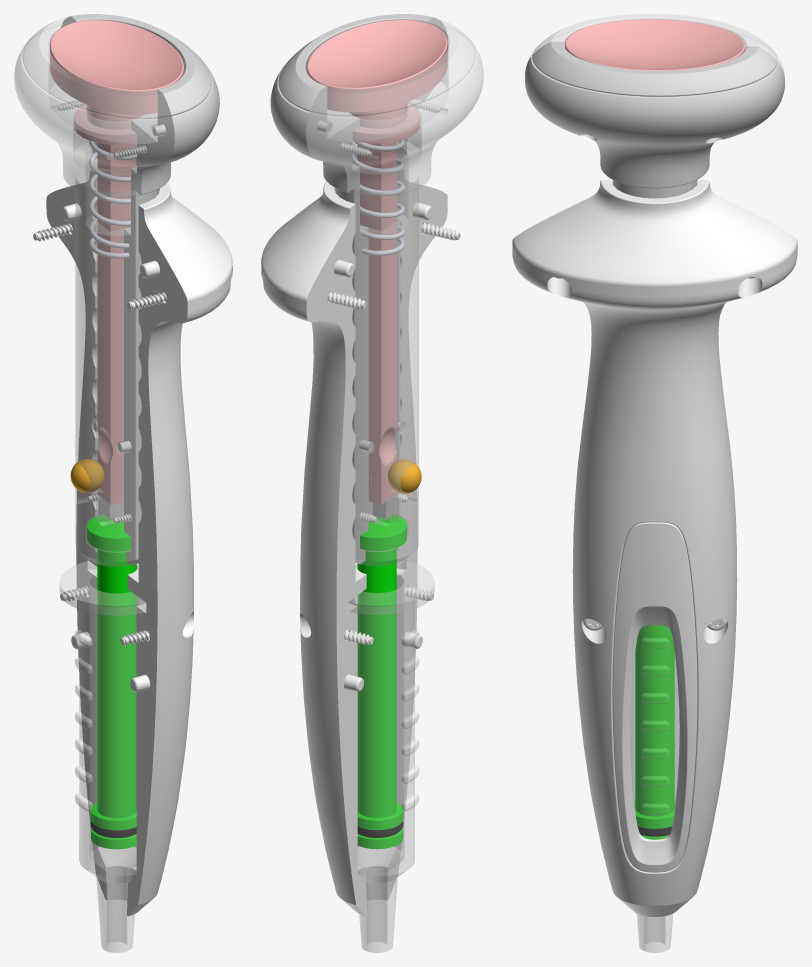
The model's file is sinoplasty.glb.
3 views of the same model, side by side, from view 1: azimuth 30°, elevation 25°; view 2: azimuth 150°, elevation 25°; view 3: azimuth 270°, elevation 25° (orthographic).
Visible parts, largest first — view 1: A-7 Final No Cover; view 2: A-7 Final No Cover; view 3: A-7 Final No Cover.
Boxes of the visible parts, x1,y1,x2,y2 form: A-7 Final No Cover: (14,14,232,952); A-7 Final No Cover: (261,14,483,952); A-7 Final No Cover: (512,14,797,952).
Bounding box in the file's own units: 0.0387 × 0.1884 × 0.054.
